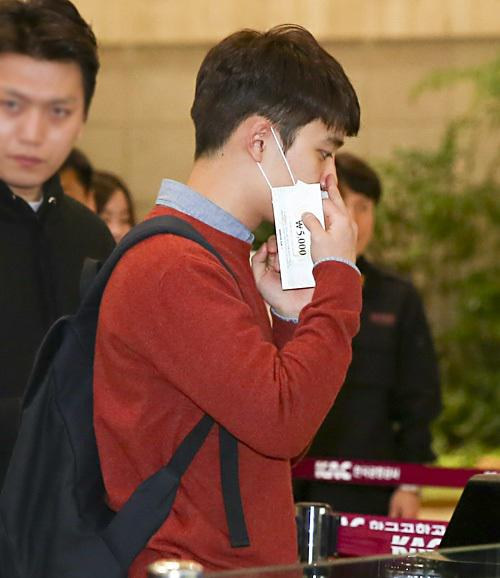NONE: (1, 75, 78, 193), (328, 187, 379, 256), (102, 195, 137, 262)
WRONG: (270, 129, 342, 239)
